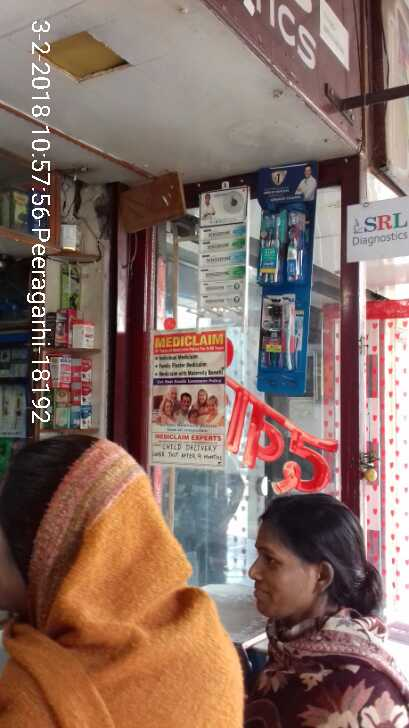oralb: (256, 290, 296, 366), (251, 207, 281, 287), (282, 207, 307, 278)
